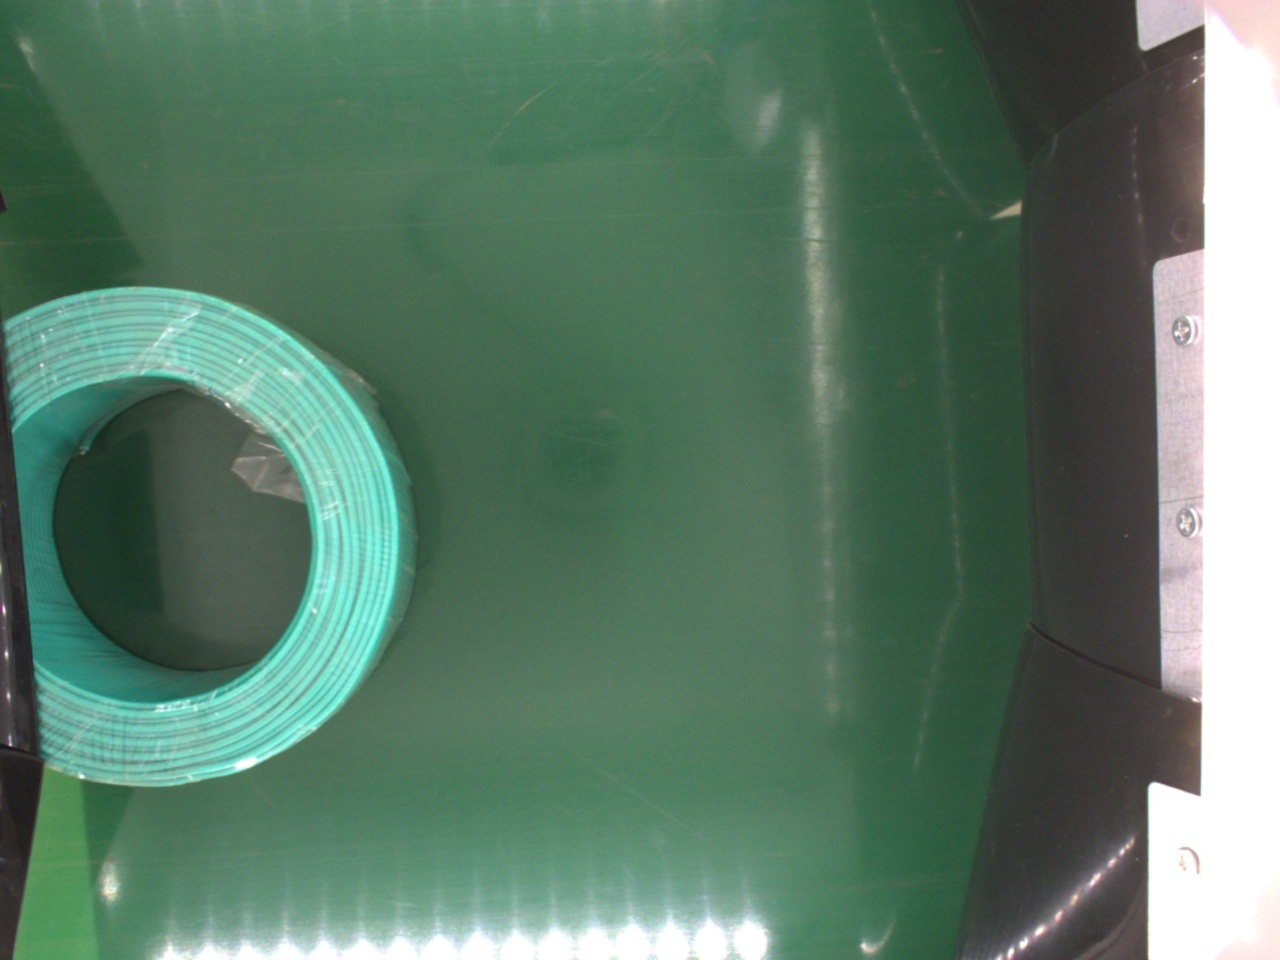green: (5, 283, 414, 795)
